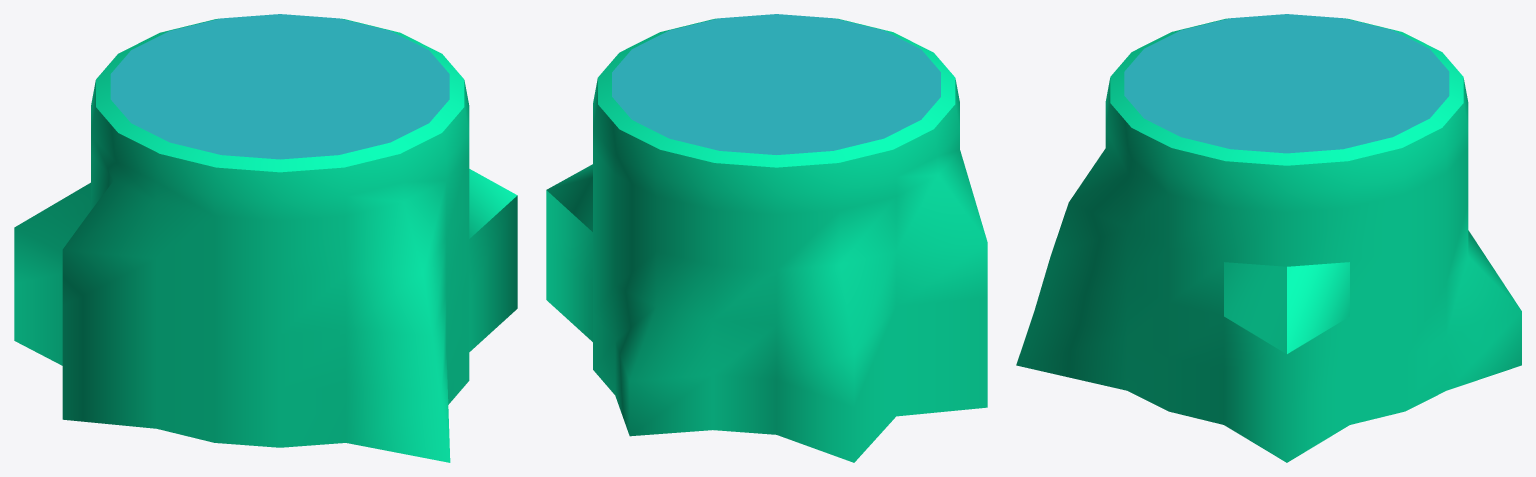
File: Tree Stump 2.fbx
The picture shows the model from 3 angles, left to right: view 1: azimuth 30°, elevation 25°; view 2: azimuth 150°, elevation 25°; view 3: azimuth 270°, elevation 25°; orthographic projection. The views are drawn at different scales.
Parts seen in each view (by area): view 1: Tree Stump 2; view 2: Tree Stump 2; view 3: Tree Stump 2.
Boxes of the visible parts, bbox=[...] form: Tree Stump 2: bbox=[14, 14, 517, 462]; Tree Stump 2: bbox=[546, 14, 987, 462]; Tree Stump 2: bbox=[1016, 14, 1521, 462].
Size of the model in its own units: 26.64 by 15.66 by 26.75.
Materials: 2 (2 with a texture image).
